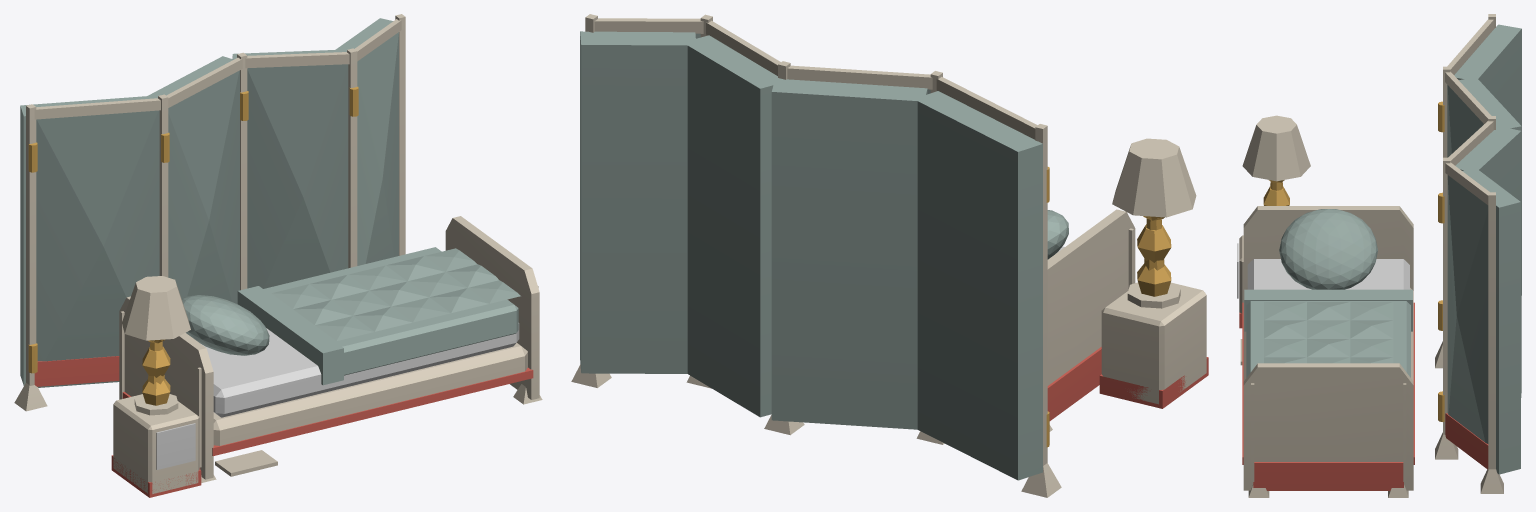
File: ward-bed.glb
3 views of the same model, side by side, from view 1: azimuth 30°, elevation 25°; view 2: azimuth 150°, elevation 25°; view 3: azimuth 270°, elevation 25° (orthographic). The views are drawn at different scales.
Visible parts, largest first — view 1: lid_mesh, gate2_mesh, gate0_mesh, gate1_mesh, root_mesh; view 2: gate2_mesh, gate1_mesh, gate0_mesh, root_mesh, lid_mesh; view 3: lid_mesh, gate2_mesh, gate0_mesh, root_mesh, gate1_mesh.
Part boxes in pixels (x1=…): lid_mesh: x1=119, y1=216, x2=542, y2=482; gate2_mesh: x1=232, y1=14, x2=405, y2=288; gate0_mesh: x1=14, y1=96, x2=168, y2=411; gate1_mesh: x1=144, y1=54, x2=247, y2=303; root_mesh: x1=111, y1=276, x2=201, y2=497; gate2_mesh: x1=571, y1=14, x2=804, y2=435; gate1_mesh: x1=770, y1=62, x2=944, y2=444; gate0_mesh: x1=916, y1=71, x2=1061, y2=497; root_mesh: x1=1099, y1=138, x2=1208, y2=408; lid_mesh: x1=1047, y1=209, x2=1135, y2=431; lid_mesh: x1=1240, y1=206, x2=1414, y2=497; gate2_mesh: x1=1435, y1=116, x2=1521, y2=493; gate0_mesh: x1=1435, y1=14, x2=1521, y2=368; root_mesh: x1=1237, y1=115, x2=1310, y2=328; gate1_mesh: x1=1435, y1=66, x2=1521, y2=392.
Size of the model in its own units: 3.4 by 2.4 by 2.1.
